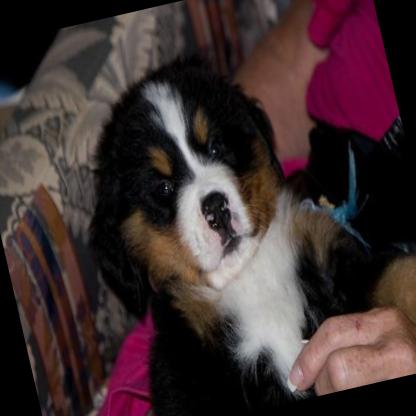Bernese_mountain_dog: (46, 5, 416, 416)
